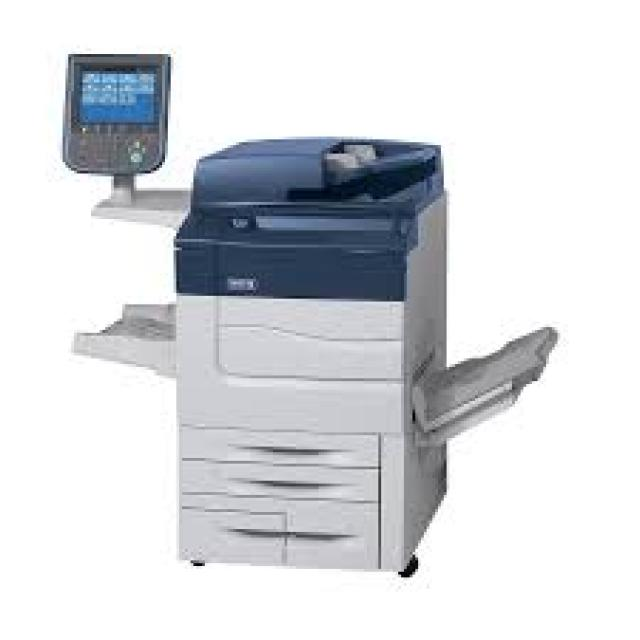printer: (32, 34, 587, 608)
